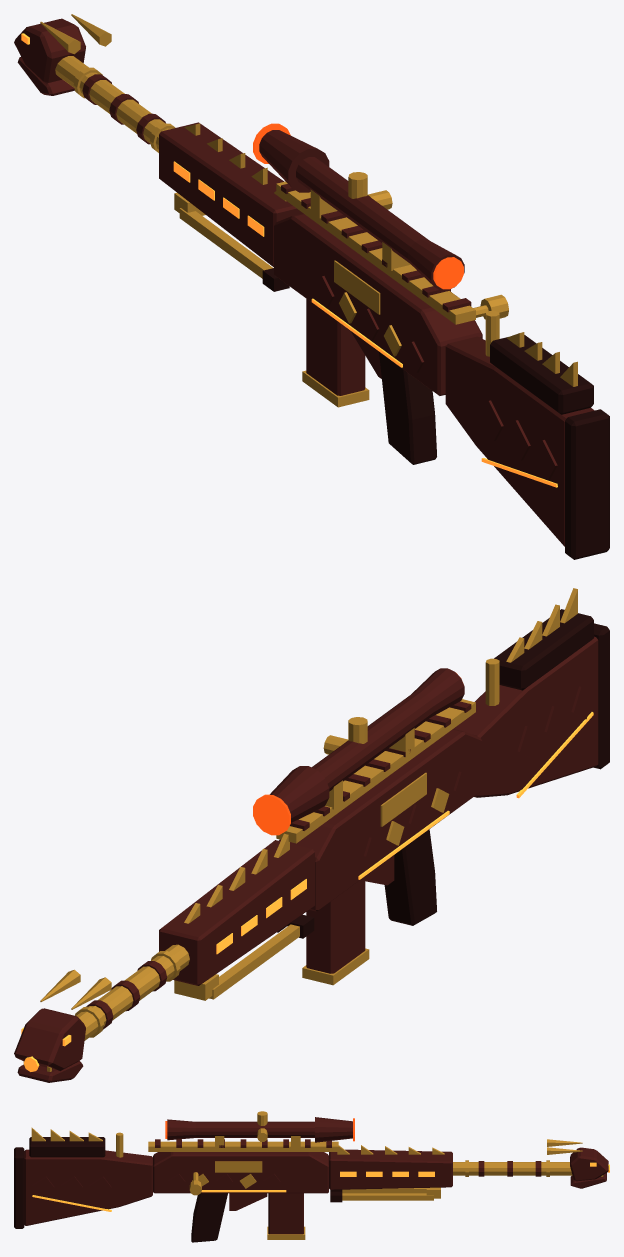
The model's file is titan_dragon.glb.
The picture shows the model from 3 angles, top to bottom: view 1: azimuth 30°, elevation 25°; view 2: azimuth 150°, elevation 25°; view 3: azimuth 270°, elevation 25°; orthographic projection. The views are drawn at different scales.
Visible parts, largest first — view 1: Titan_Dragon; view 2: Titan_Dragon; view 3: Titan_Dragon.
Part boxes in pixels (left/top/right/bottom): Titan_Dragon: left=14, top=14, right=609, bottom=559; Titan_Dragon: left=14, top=588, right=609, bottom=1082; Titan_Dragon: left=14, top=1111, right=609, bottom=1242.
Size of the model in its own units: 0.138 by 0.2927 by 1.25.
1 material, 1 textured.
